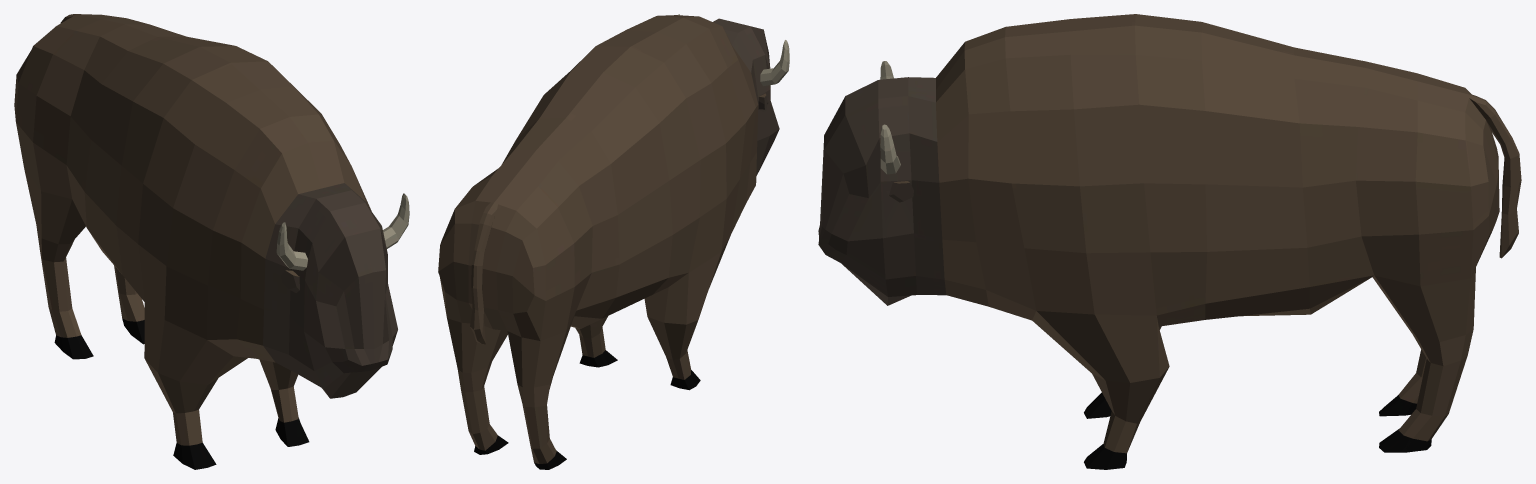
Rendered from prop_pa_bizon.glb.
3 renders of one model, left to right at view 1: azimuth 30°, elevation 25°; view 2: azimuth 150°, elevation 25°; view 3: azimuth 270°, elevation 25°, orthographic. The views are drawn at different scales.
Parts seen in each view (by area): view 1: 04bizonFinal; view 2: 04bizonFinal; view 3: 04bizonFinal.
Boxes of the visible parts, left/top/right/bottom form: 04bizonFinal: left=14, top=14, right=409, bottom=469; 04bizonFinal: left=438, top=14, right=789, bottom=469; 04bizonFinal: left=818, top=14, right=1521, bottom=469.
Size of the model in its own units: 1.16 by 2.42 by 3.74.
1 material, 1 textured.
